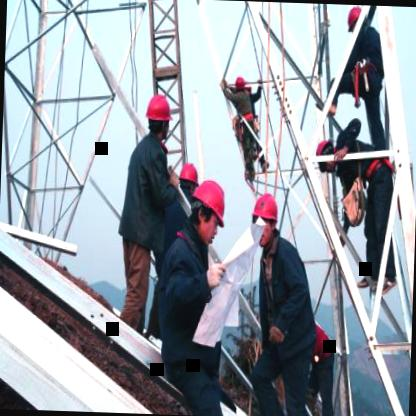helmet: (188, 176, 230, 248), (250, 190, 282, 248), (144, 90, 173, 142), (312, 133, 339, 175), (174, 158, 198, 198), (344, 6, 367, 41), (233, 70, 248, 98)
